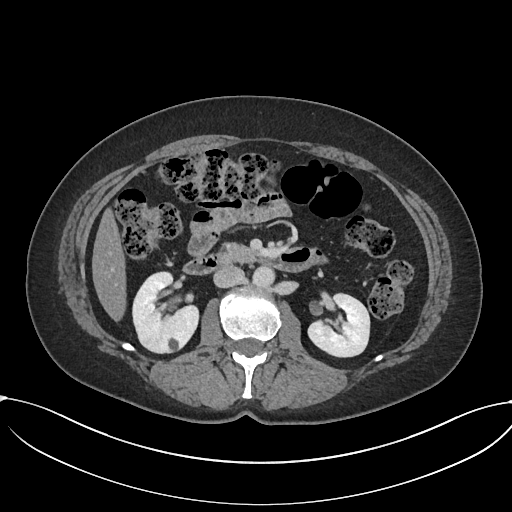Lesion: (165, 337, 181, 353)
